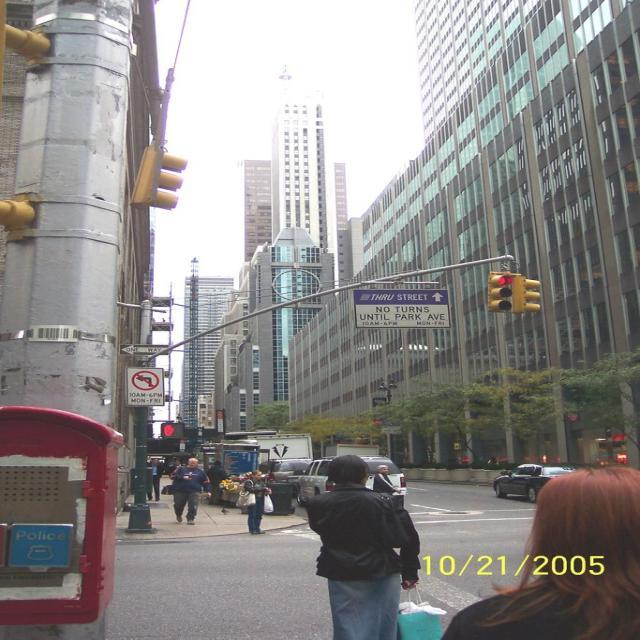off traffic light: (132, 145, 188, 211), (514, 273, 540, 313)
road_sign: (129, 368, 162, 391)
traffic light: (489, 270, 514, 311)
